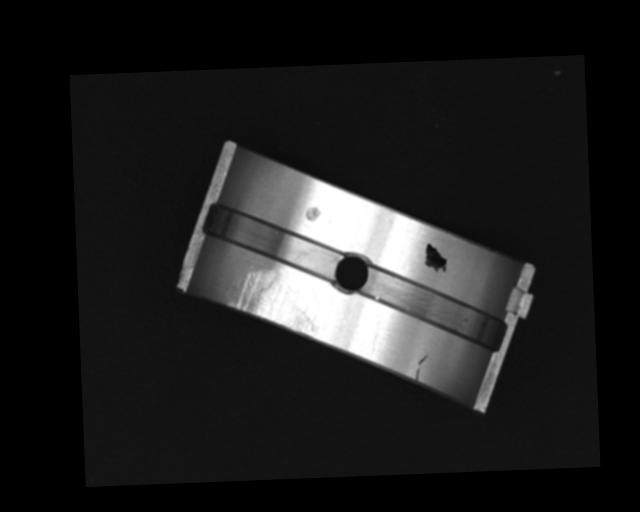blot: (423, 242, 448, 275)
bruise: (305, 206, 321, 223)
gap: (362, 258, 507, 353), (201, 197, 345, 285)
hole: (333, 251, 373, 296)
nick: (414, 355, 429, 383), (369, 319, 381, 352)
scratch: (223, 266, 319, 342)
